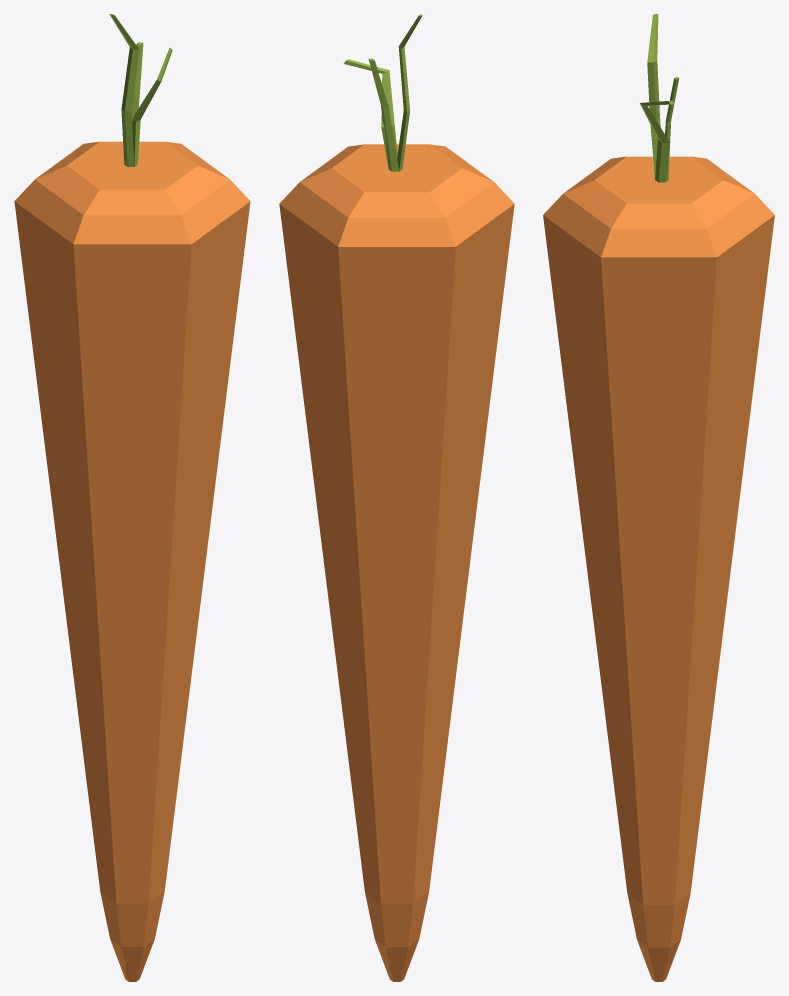
File: Carrot.fbx
3 views of the same model, side by side, from view 1: azimuth 30°, elevation 25°; view 2: azimuth 150°, elevation 25°; view 3: azimuth 270°, elevation 25° (orthographic).
Visible parts, largest first — view 1: Carrot; view 2: Carrot; view 3: Carrot.
Part boxes in pixels (left/top/right/bottom): Carrot: left=14, top=14, right=250, bottom=981; Carrot: left=279, top=14, right=514, bottom=981; Carrot: left=543, top=14, right=774, bottom=981.
Size of the model in its own units: 96.6 by 506 by 112.
